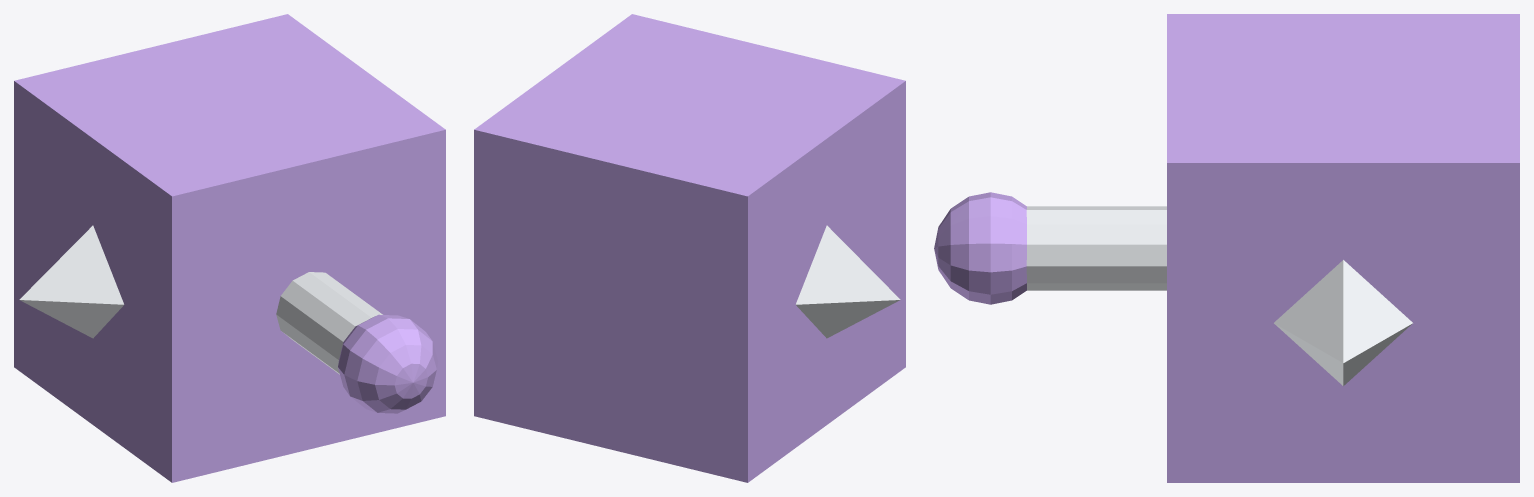
File: note-gem.glb
3 renders of one model, left to right at view 1: azimuth 30°, elevation 25°; view 2: azimuth 150°, elevation 25°; view 3: azimuth 270°, elevation 25°, orthographic. The views are drawn at different scales.
Visible parts, largest first — view 1: note-gem; view 2: note-gem; view 3: note-gem.
Part boxes in pixels (<box>): note-gem: <box>14,14,445,482</box>; note-gem: <box>474,14,905,482</box>; note-gem: <box>934,14,1519,482</box>.
Bounding box in the file's own units: 1.54 × 1 × 1.66.
